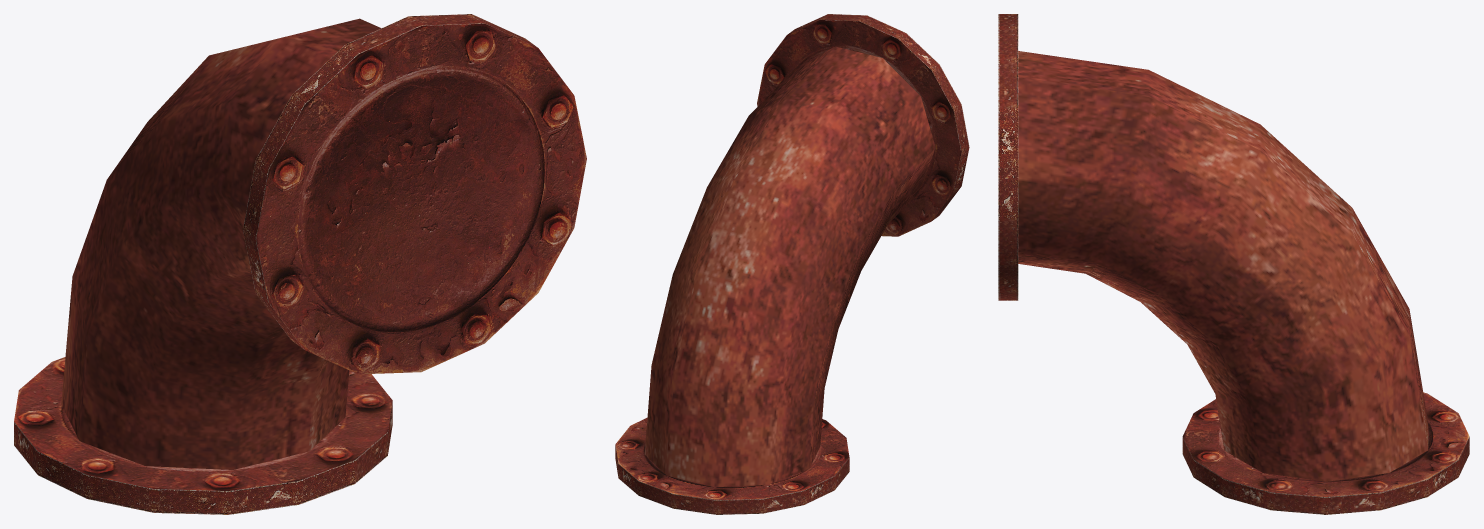
File: elbow_red.DAE
3 views of the same model, side by side, from view 1: azimuth 30°, elevation 25°; view 2: azimuth 150°, elevation 25°; view 3: azimuth 270°, elevation 25° (orthographic). The views are drawn at different scales.
Visible parts, largest first — view 1: Object382, Torus035; view 2: Torus035, Object382; view 3: Torus035, Object382.
Boxes of the visible parts, box(x1,y1,x2,y2) form: Object382: box(14, 14, 586, 514); Torus035: box(61, 18, 381, 469); Torus035: box(644, 46, 935, 487); Object382: box(615, 14, 969, 514); Torus035: box(1018, 51, 1428, 481); Object382: box(998, 14, 1469, 514).
Bounding box in the file's own units: 0.6566 × 1.08 × 1.08.
